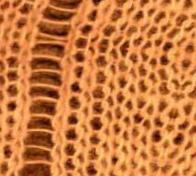slub: (20, 1, 79, 174)
